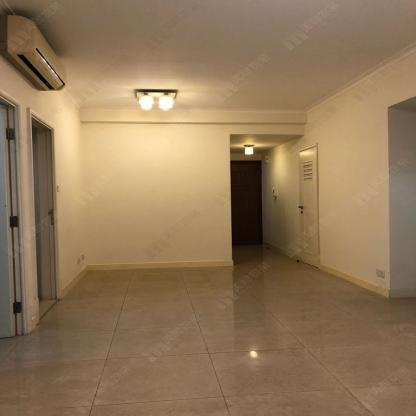AC: (0, 14, 66, 91)
